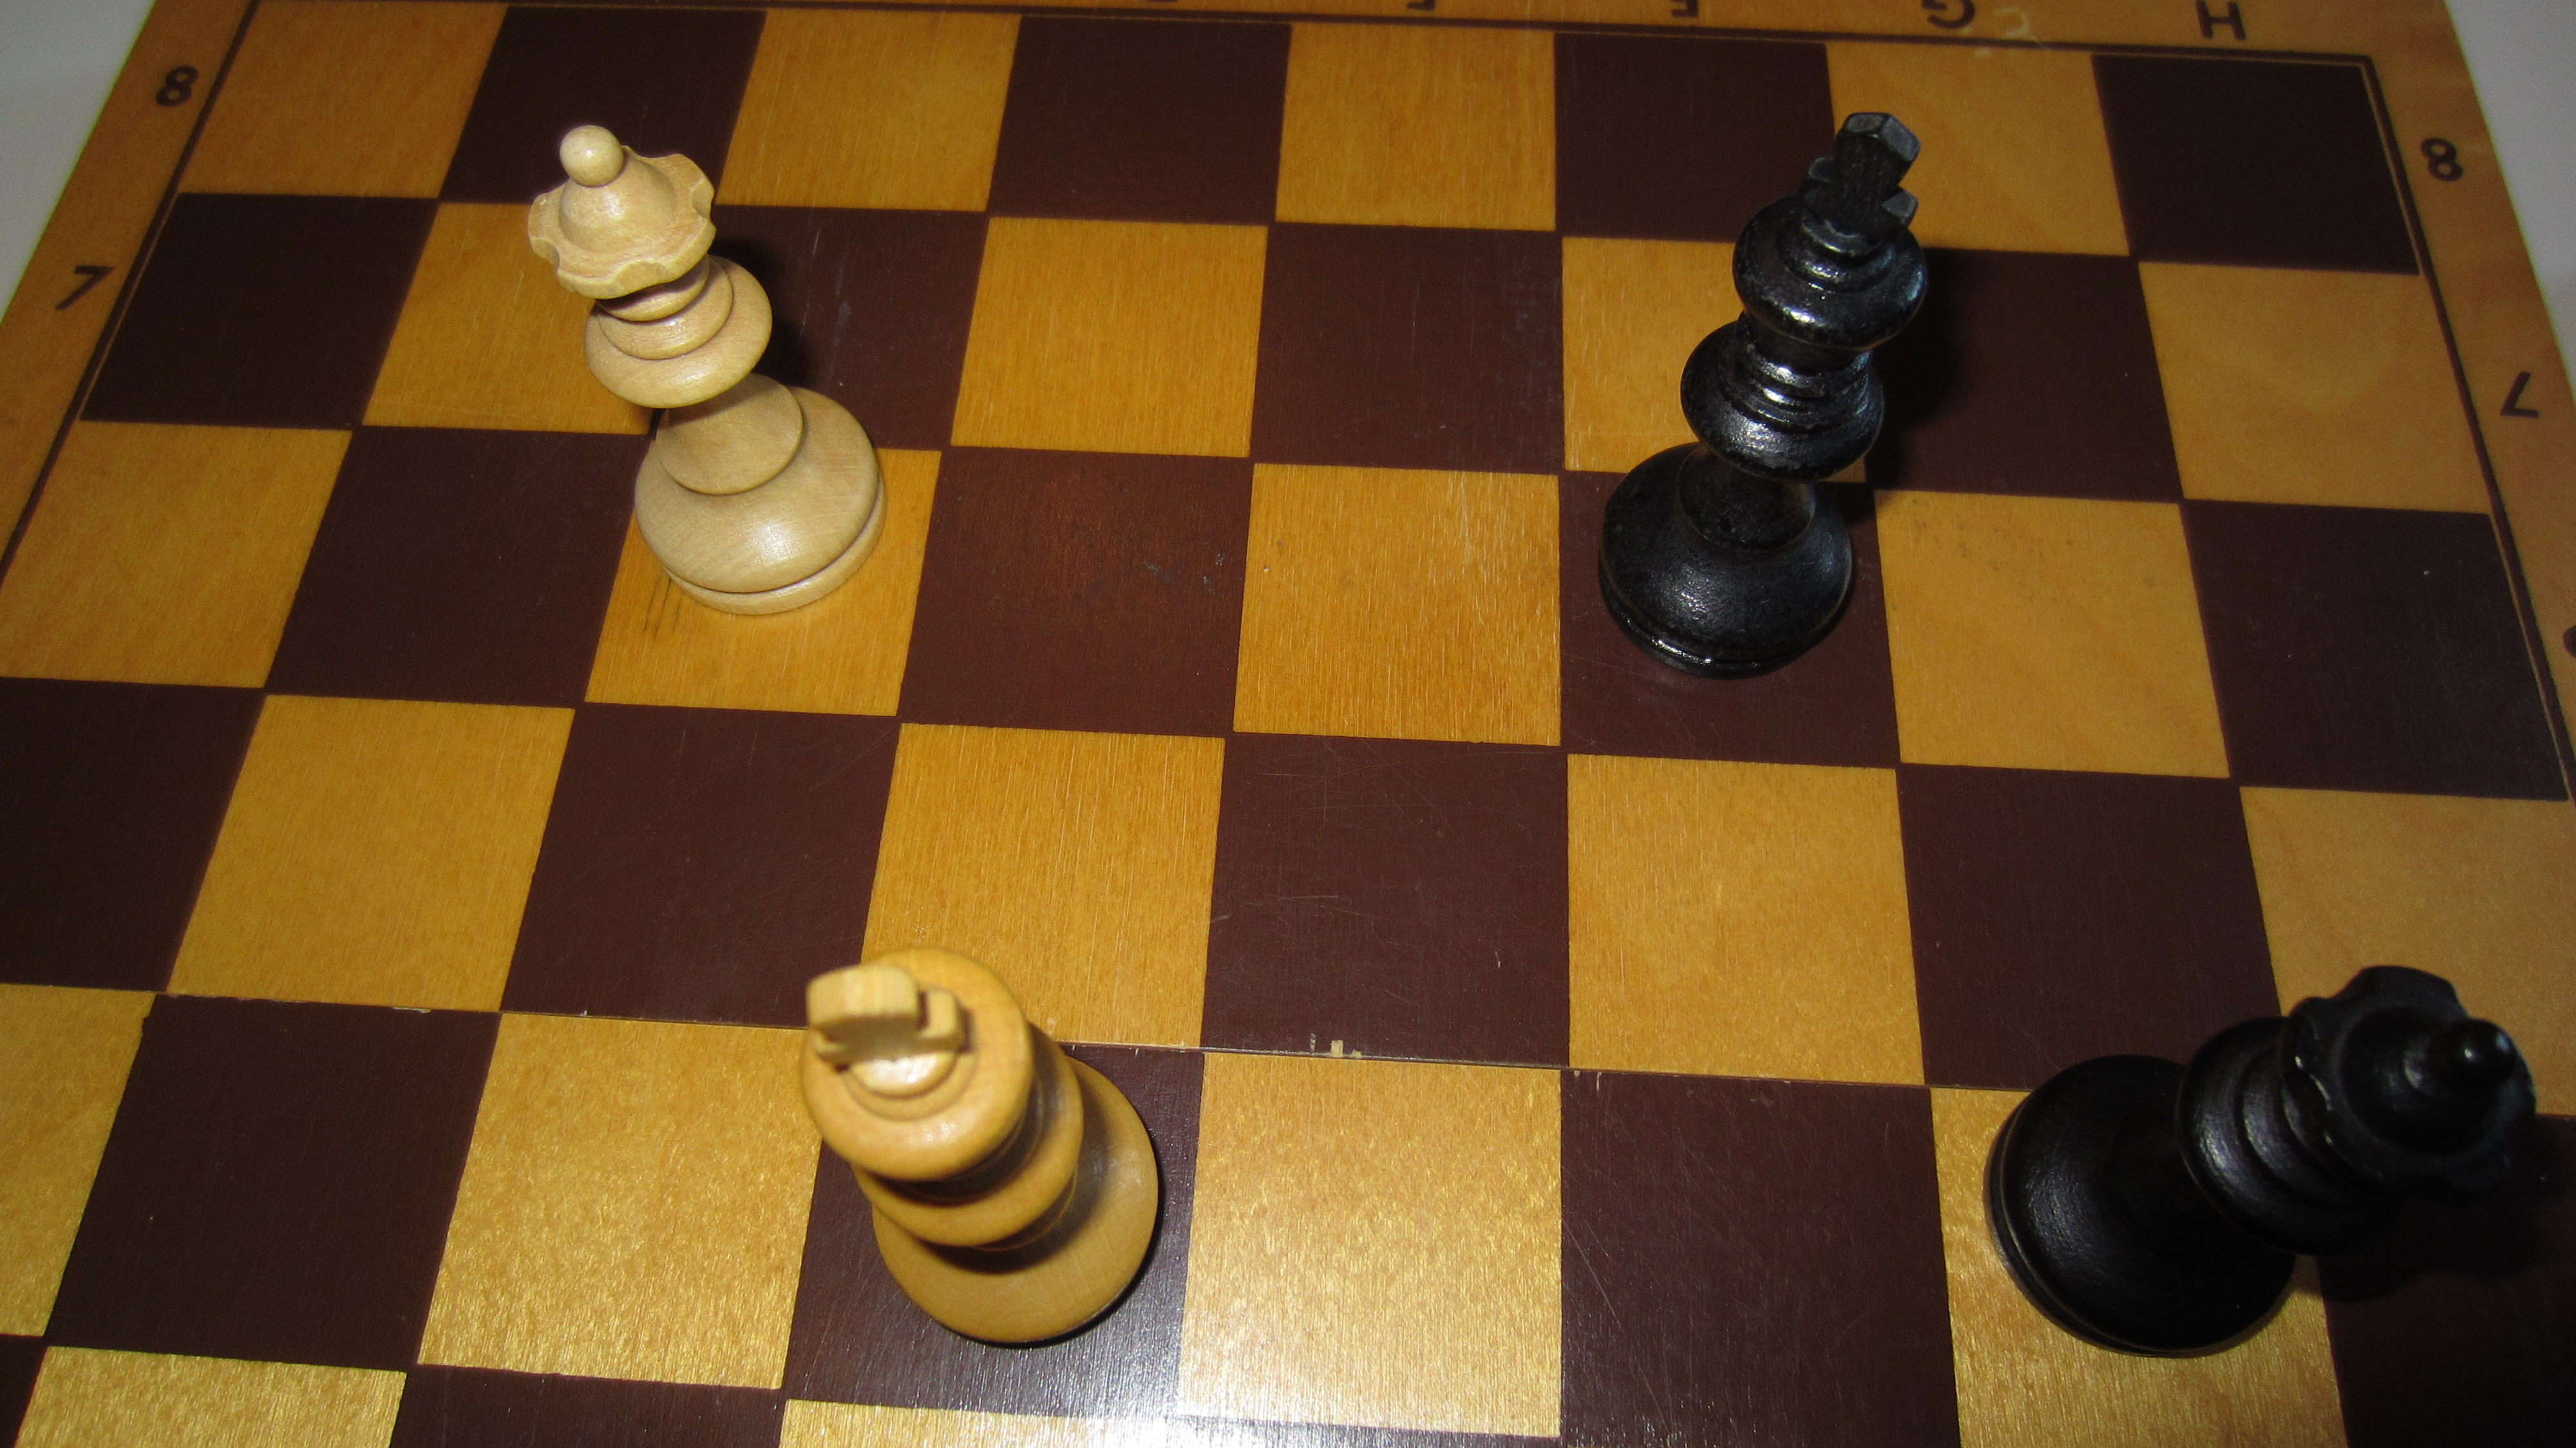black-king: (1596, 110, 1934, 682)
black-queen: (1980, 961, 2542, 1359)
white-king: (794, 944, 1164, 1351)
white-queen: (524, 120, 893, 618)
